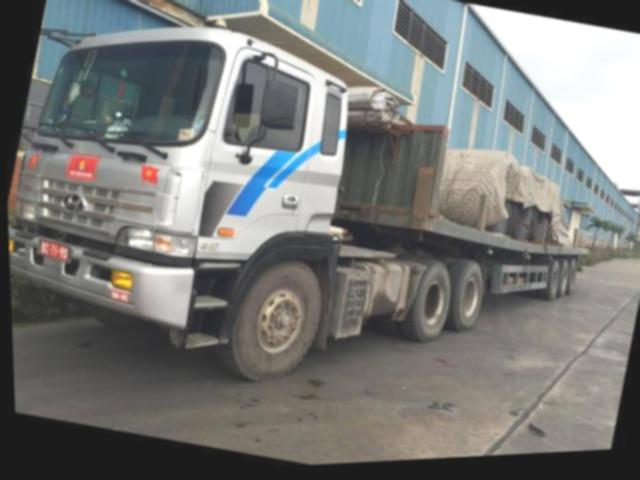License_Plate: (37, 236, 70, 265)
